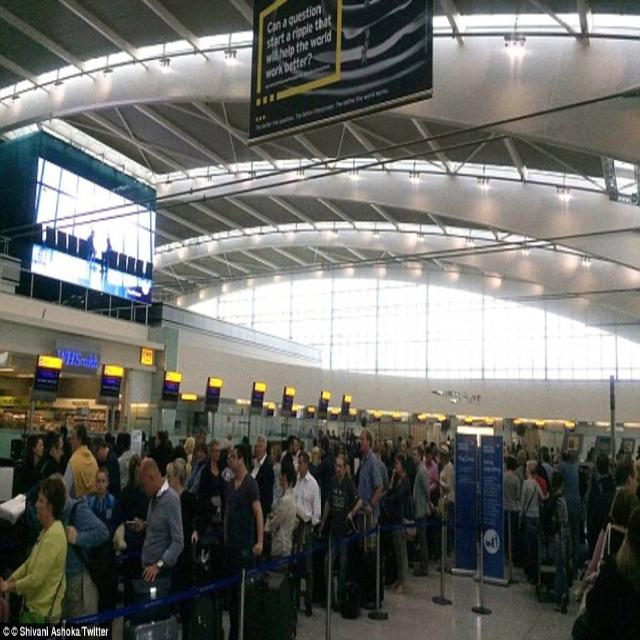body: (572, 440, 639, 639), (0, 475, 69, 625), (44, 472, 110, 625), (222, 441, 264, 639), (124, 455, 185, 586), (317, 452, 363, 614), (292, 450, 321, 618), (388, 450, 418, 596), (546, 469, 573, 615), (248, 432, 276, 570), (141, 425, 209, 479), (354, 428, 384, 550), (264, 455, 298, 559), (118, 452, 150, 556), (409, 444, 432, 578), (23, 421, 72, 483), (63, 423, 100, 500), (519, 461, 545, 570), (502, 436, 561, 481), (199, 437, 227, 527), (86, 464, 120, 537), (500, 454, 521, 565), (310, 427, 335, 497), (108, 432, 134, 492), (84, 227, 113, 277), (438, 443, 456, 504), (371, 438, 395, 483), (346, 422, 362, 487), (286, 435, 310, 476), (422, 446, 440, 492), (87, 430, 109, 466), (219, 448, 236, 484), (272, 442, 282, 501), (241, 432, 254, 468), (394, 433, 412, 458), (422, 438, 439, 463), (560, 448, 572, 483), (335, 424, 347, 454), (446, 434, 456, 464)
